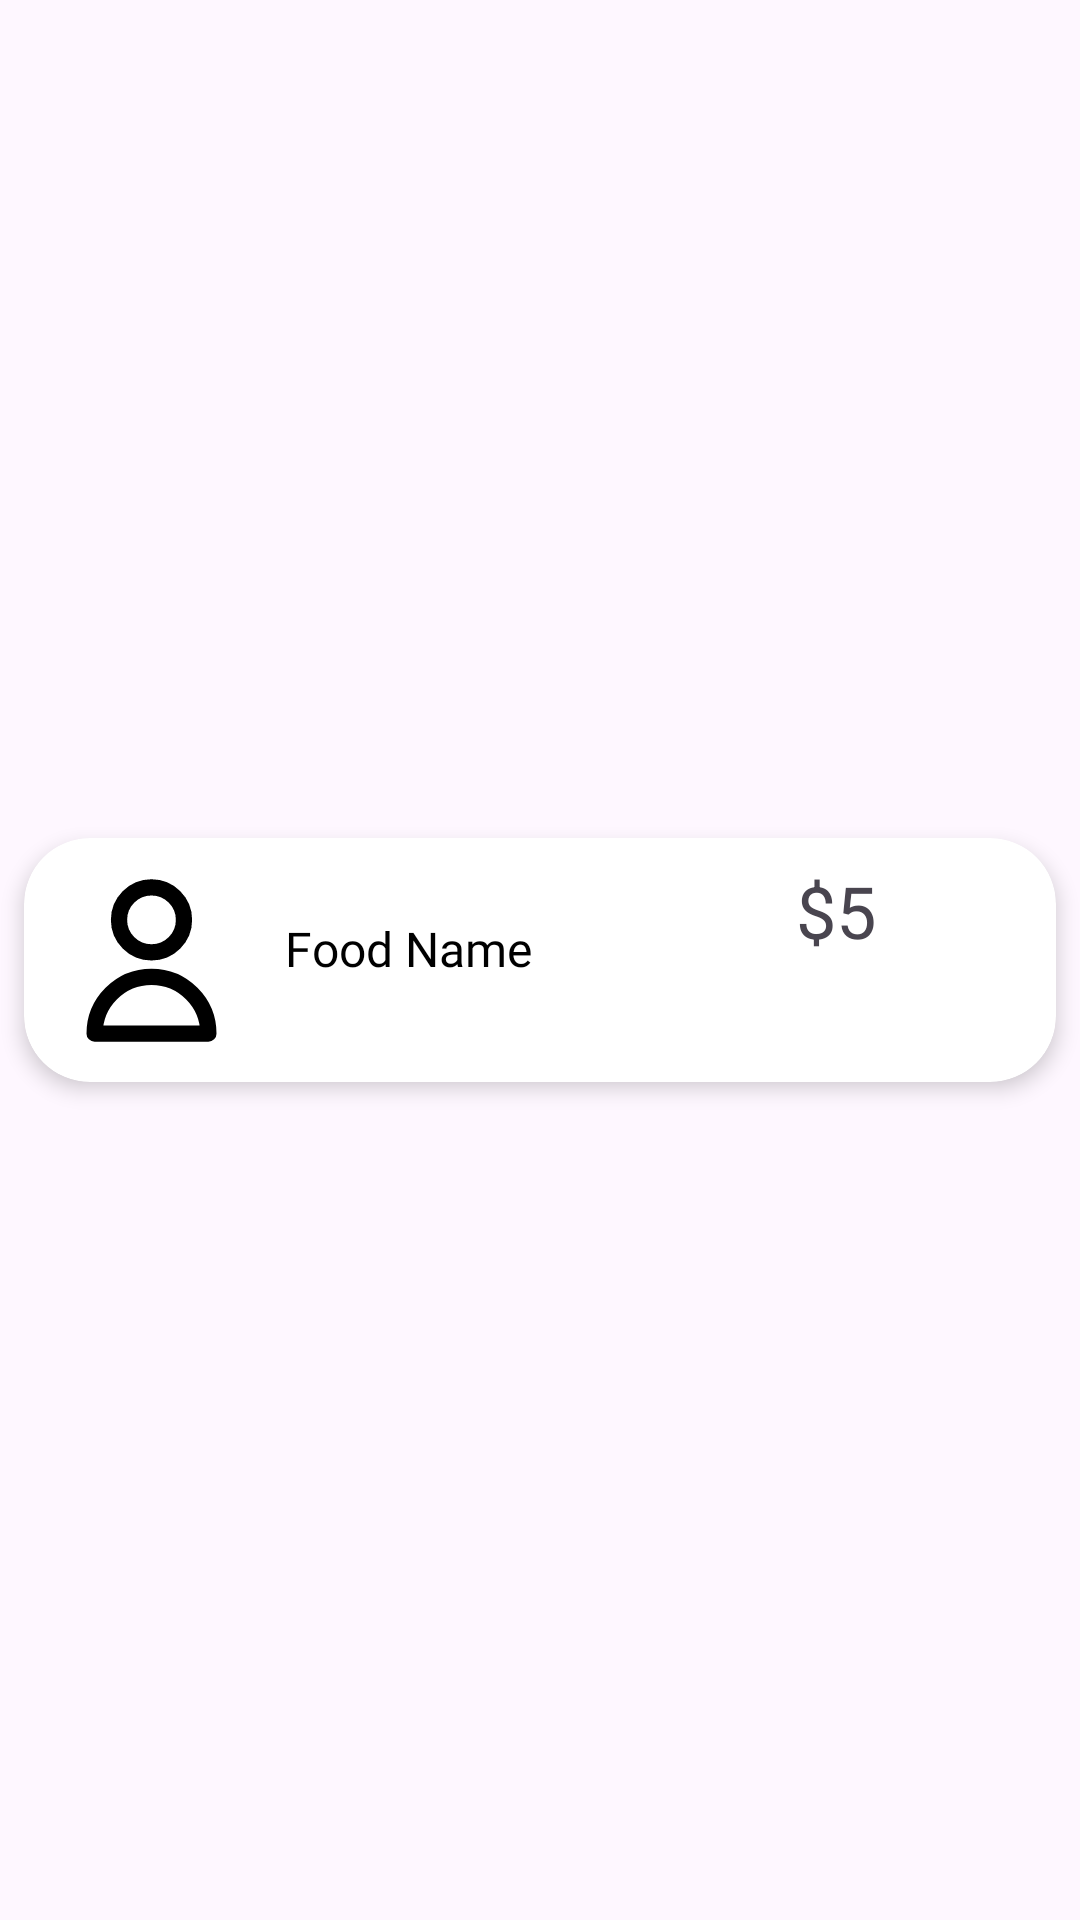

Locate icon controls on the screen. Image size 1080 x 1920, boxes as (x1, y1, x2, y2).
user: (86, 879, 217, 1042)
